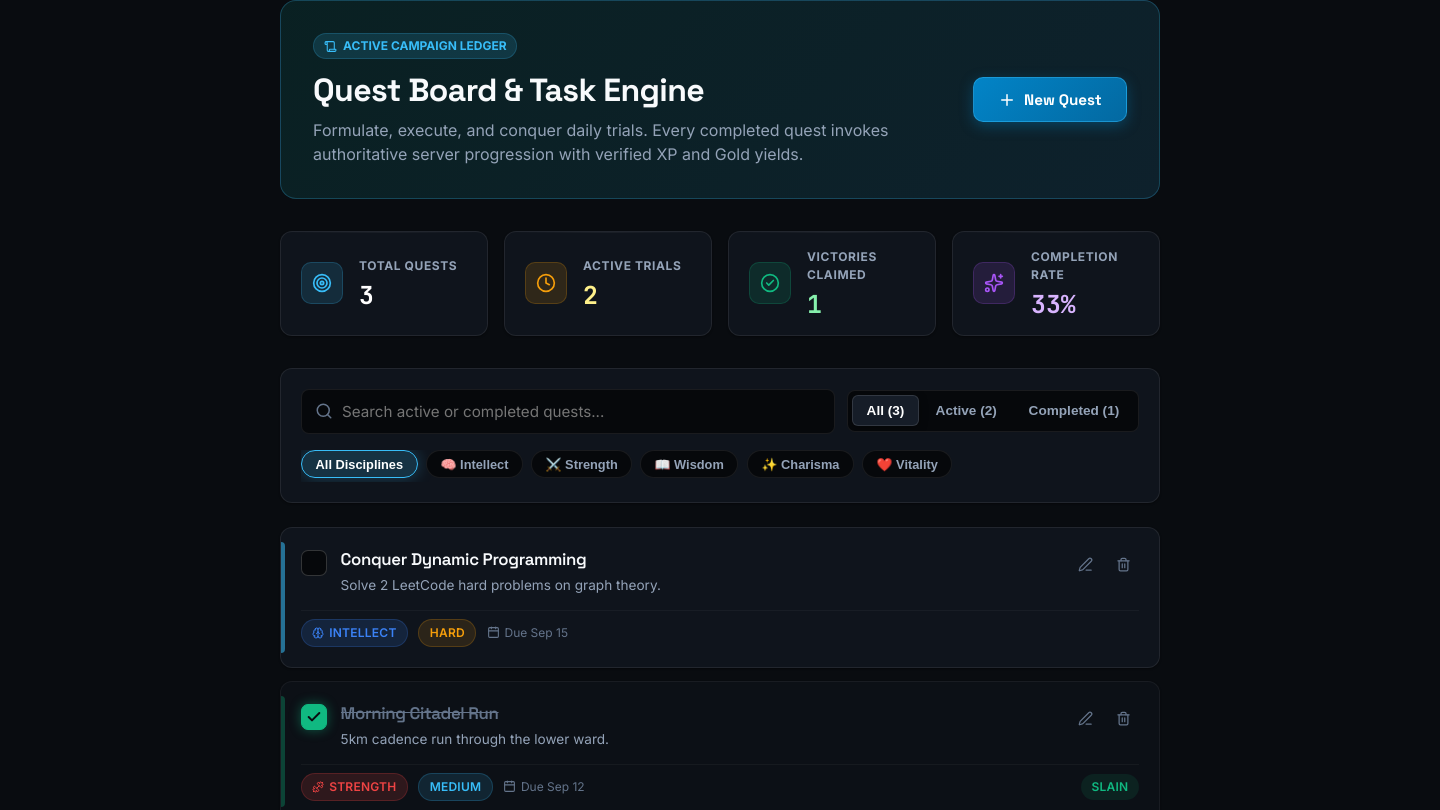
Test case: Quest System UI & CRUD Operations › closes composer modal when Escape key is pressed
Click the button "New Quest" at [1050, 99], box [973,77,1127,122]
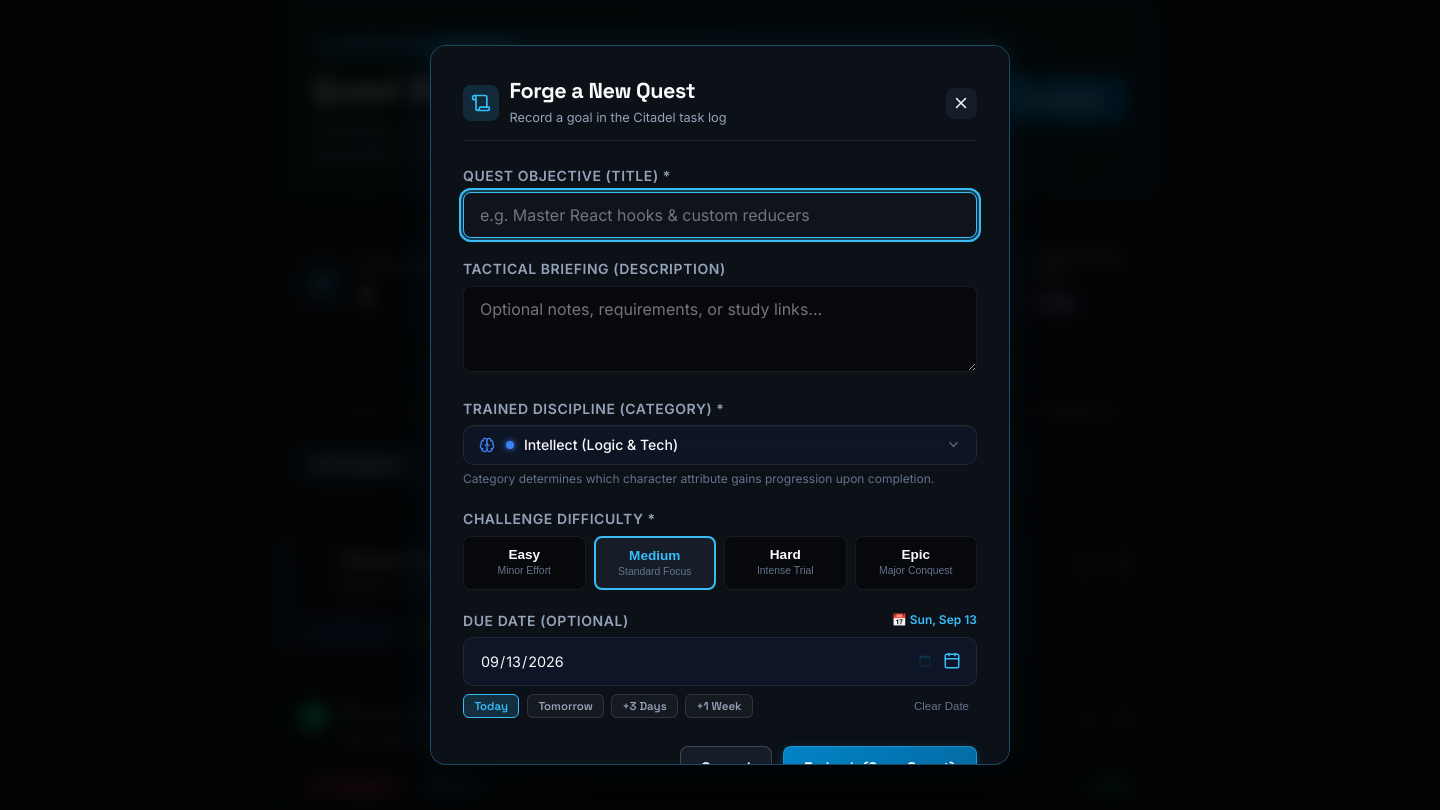
expect the heading "Forge a New Quest" is shown: met, box [509,78,727,104]
Note: Press Escape
Press Escape
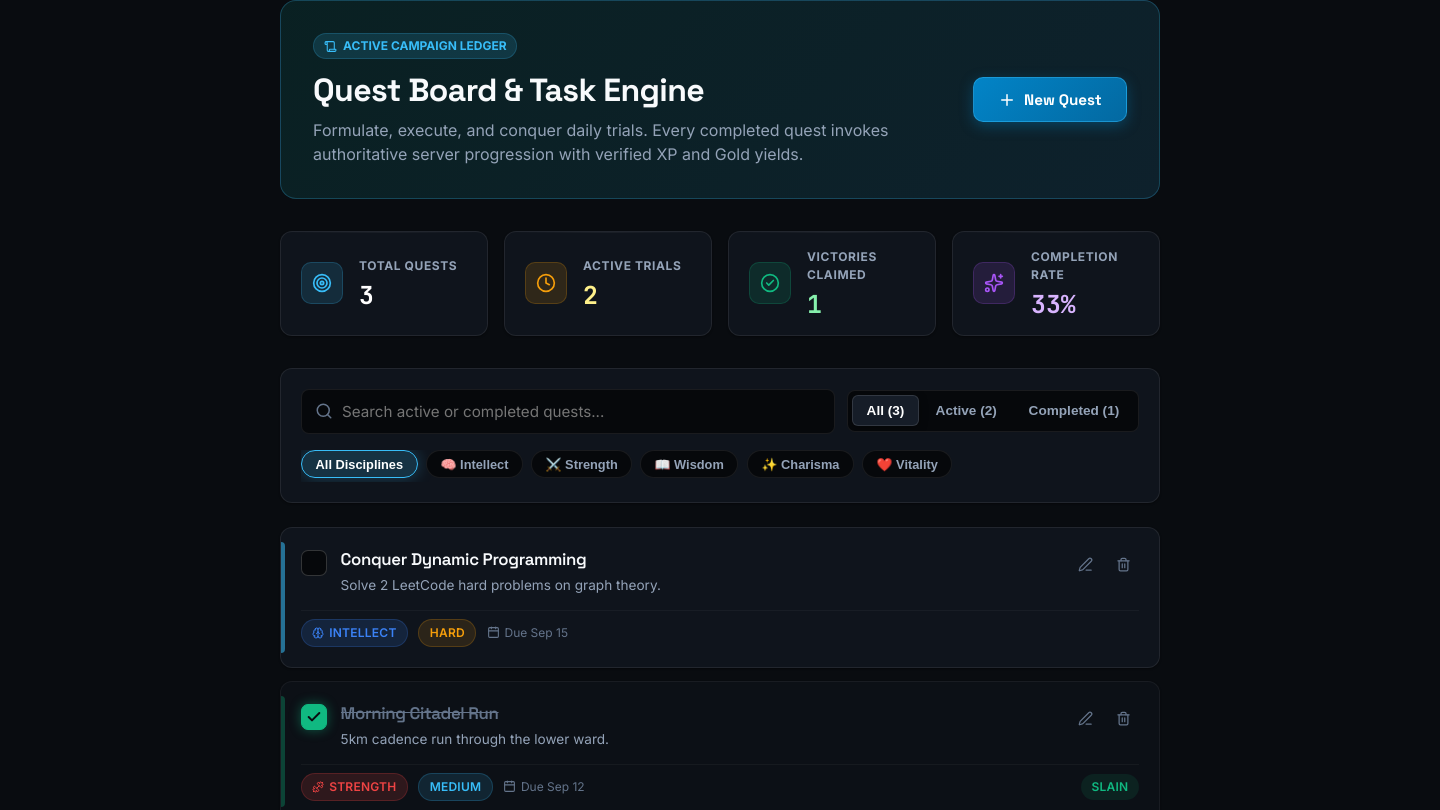
expect the heading "Forge a New Quest" is gone: met
